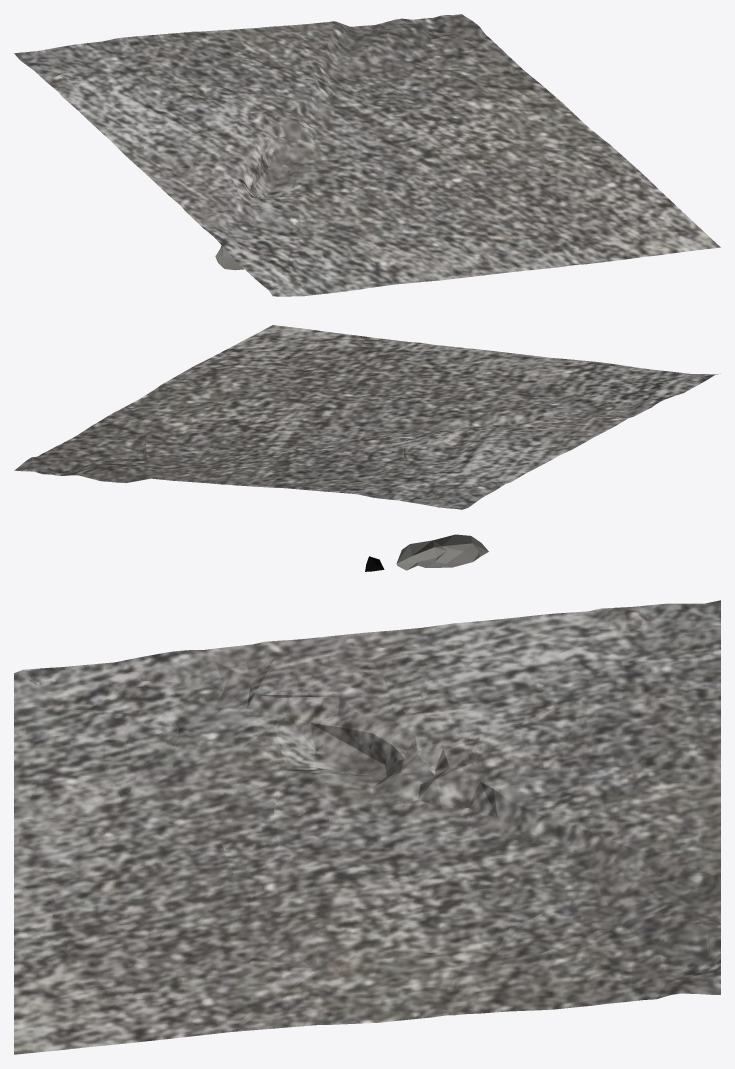
3 views of the same model, one above another, from view 1: azimuth 30°, elevation 25°; view 2: azimuth 150°, elevation 25°; view 3: azimuth 270°, elevation 25° (orthographic). The views are drawn at different scales.
Size of the model in its own units: 0.8374 by 0.2838 by 0.8374.
3 materials, 3 textured.
